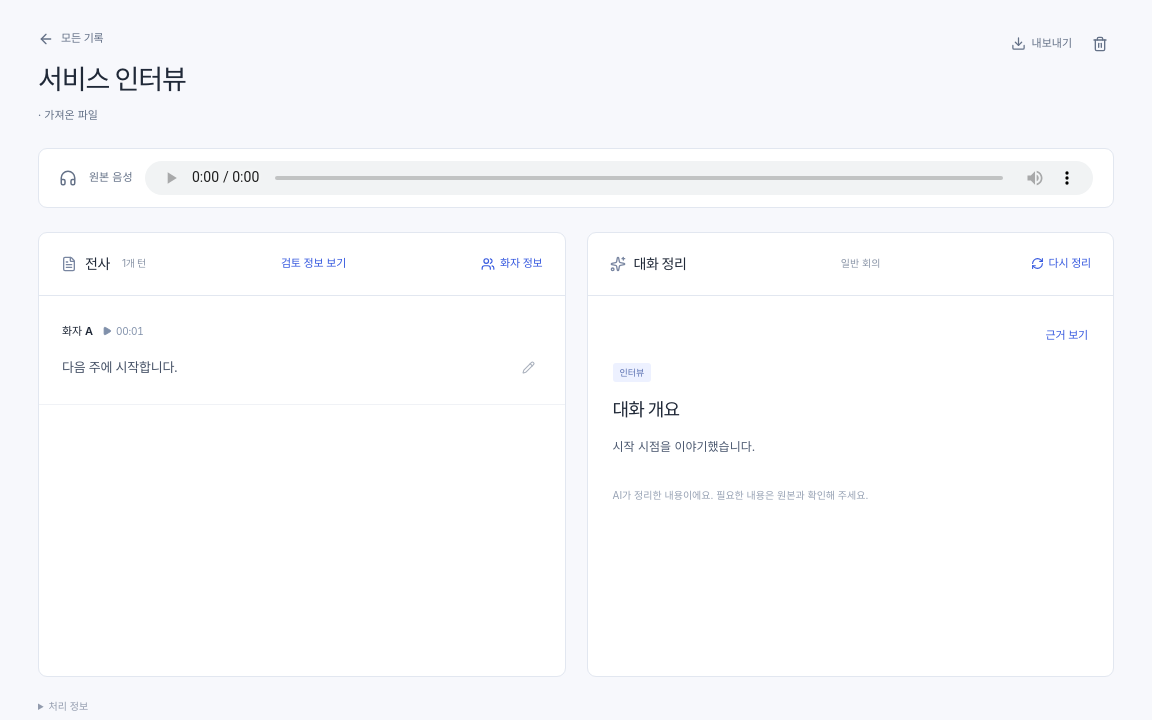
preserves an edit draft after a version conflict
Click the button named "발언 수정": coordinates (528, 368) x1=516 y1=355 x2=542 y2=381
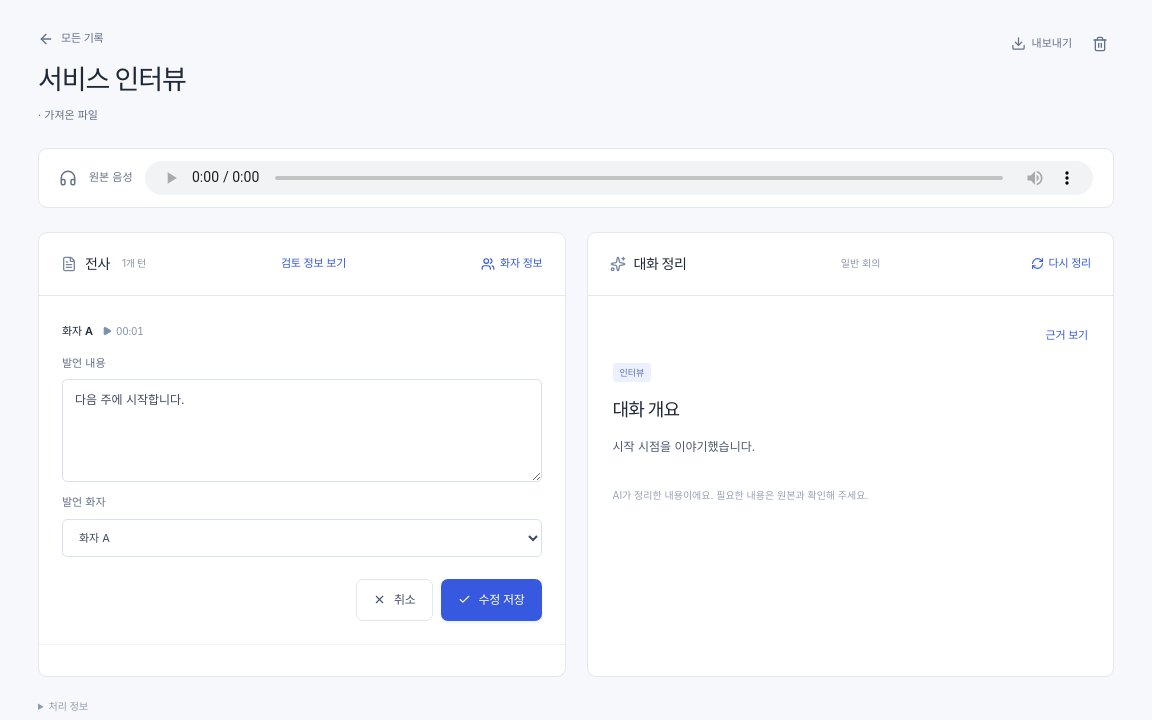
Replace the text in the text box labelled "발언 내용" with "수정한 문장입니다.": coordinates (302, 431) x1=62 y1=379 x2=542 y2=482
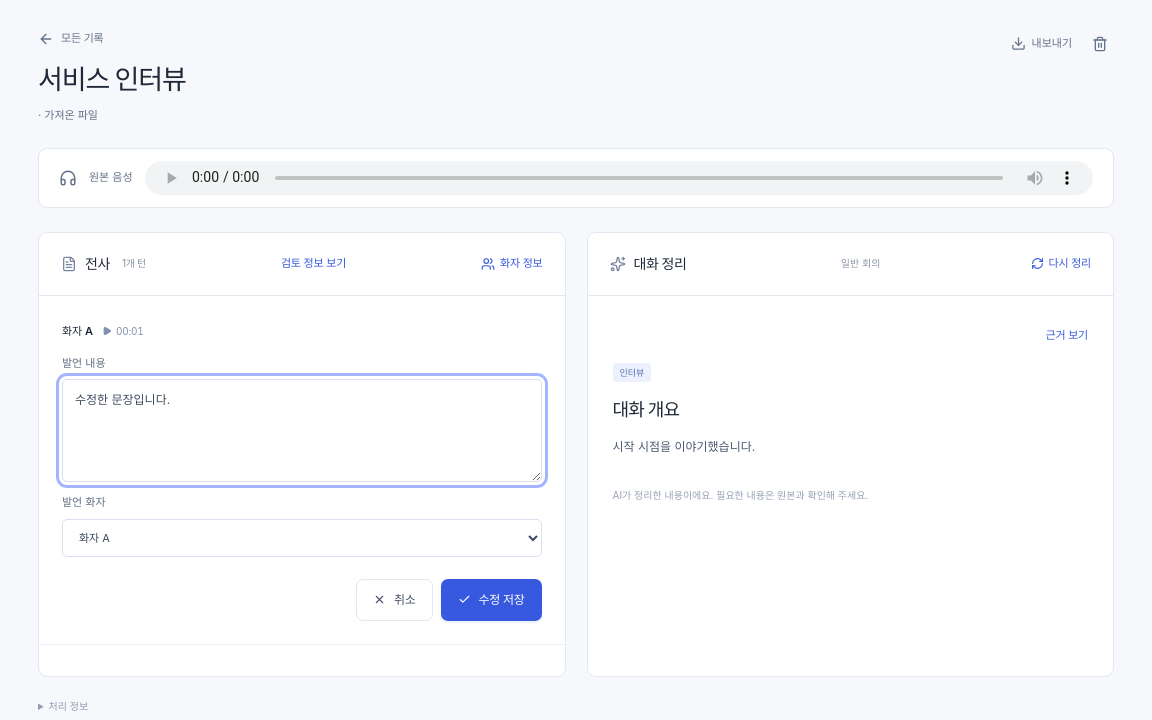
Click the button "수정 저장": coordinates (491, 600) x1=440 y1=578 x2=542 y2=621
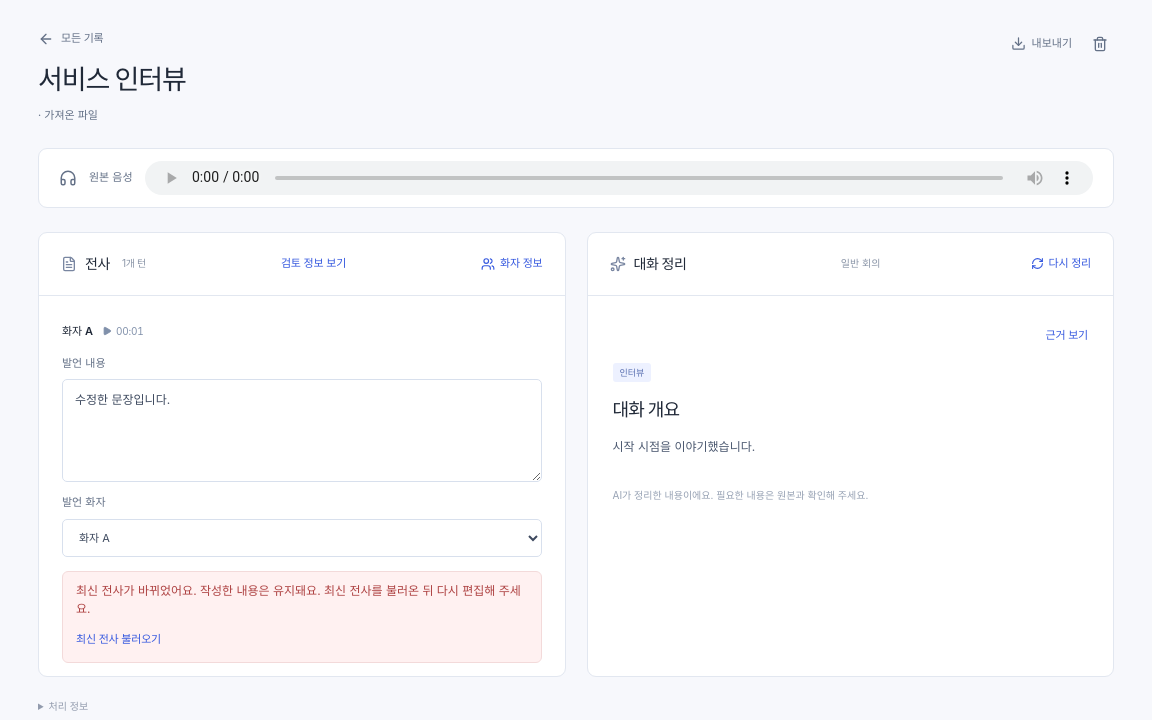
Expected: the message shows "최신 전사", x1=76 y1=627 x2=161 y2=652
